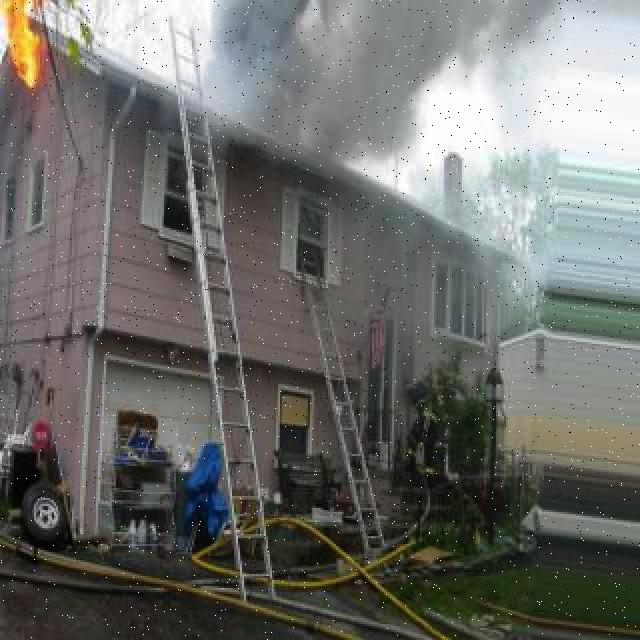fire: (0, 0, 46, 93)
smoke: (196, 3, 560, 188)
